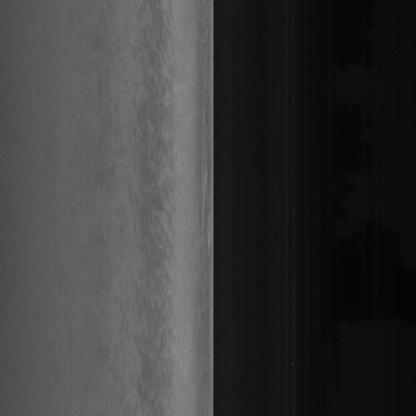silk_spot: (139, 140, 176, 235)
